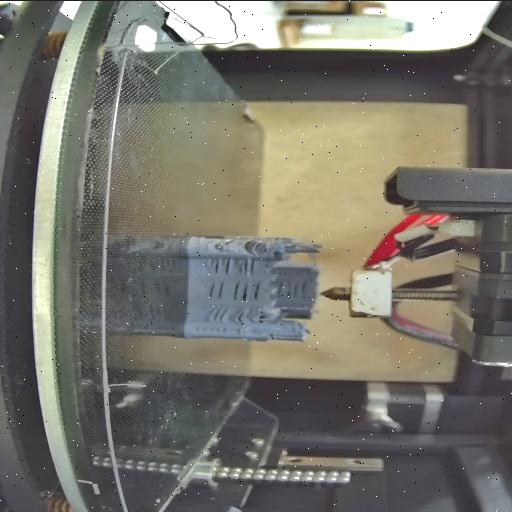cracks: (208, 256, 258, 274), (278, 276, 310, 304), (234, 279, 263, 301), (194, 324, 248, 334), (234, 305, 256, 325), (208, 304, 228, 324), (208, 279, 226, 298), (246, 238, 264, 252), (220, 237, 238, 246), (267, 331, 281, 338)
